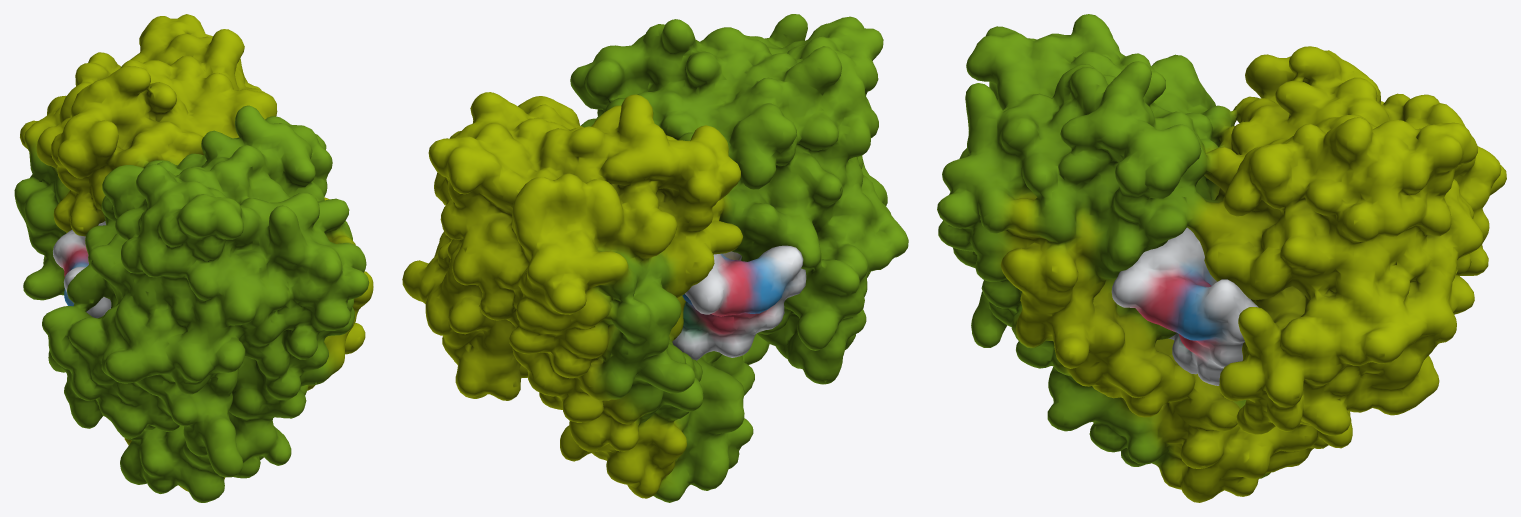
3 views of the same model, side by side, from view 1: azimuth 30°, elevation 25°; view 2: azimuth 150°, elevation 25°; view 3: azimuth 270°, elevation 25° (orthographic). The views are drawn at different scales.
Parts seen in each view (by area): view 1: 2E52_protein, 2E52_dna; view 2: 2E52_protein, 2E52_dna; view 3: 2E52_protein, 2E52_dna.
Boxes of the visible parts, x1,y1,x2,y2 form: 2E52_protein: [14, 14, 373, 502]; 2E52_dna: [53, 221, 111, 318]; 2E52_protein: [402, 14, 908, 502]; 2E52_dna: [672, 245, 806, 360]; 2E52_protein: [937, 14, 1506, 502]; 2E52_dna: [1111, 227, 1258, 385].
Size of the model in its own units: 6.34 by 7.2 by 8.33.
